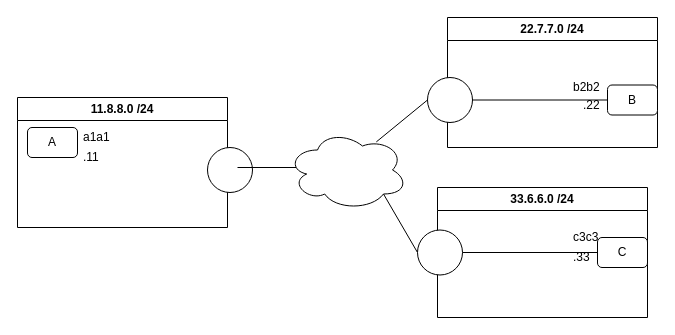
Some shapes in this 675 by 335 pixel diagram are drawn without their labels. The shapes that lost their labels are listed below. From the top down, each one's centre as x and y in pixels, then its label:
the point at 449,99: R2
the point at 229,169: R1
the point at 439,252: R3
